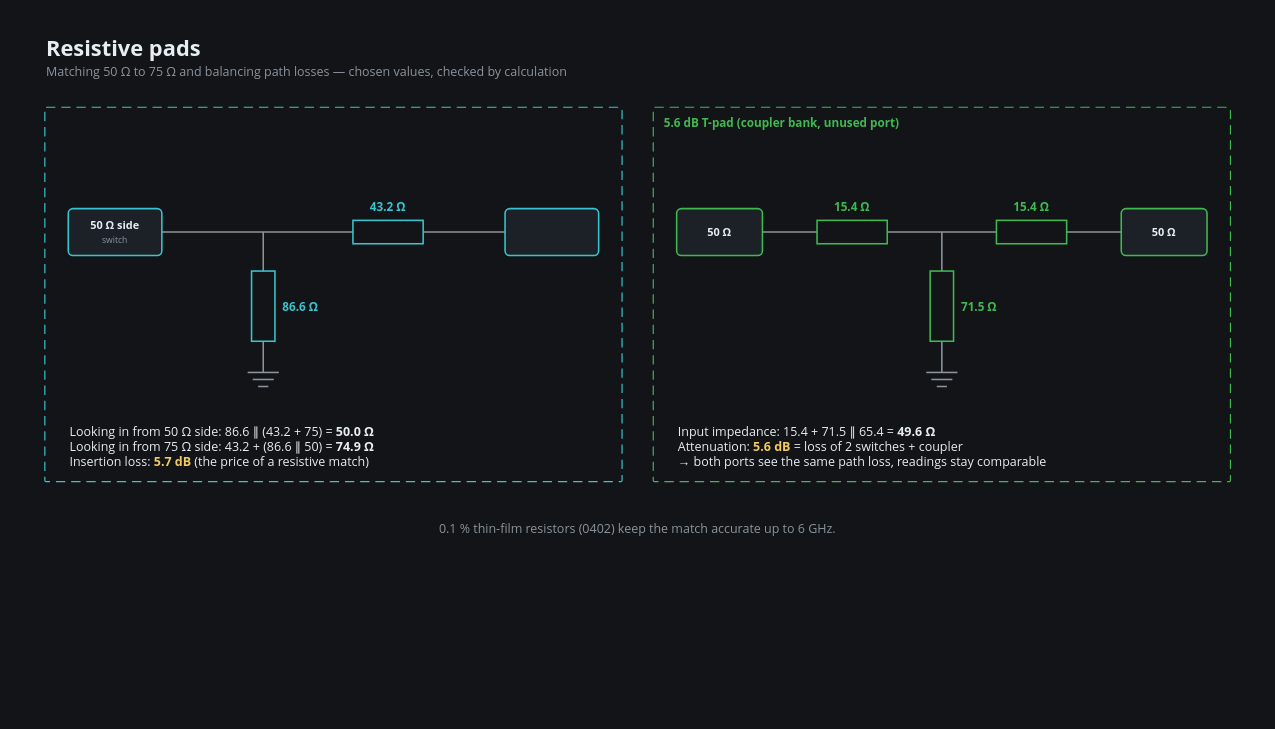
Some shapes in this 1275 by 729 pixel diagram are drawn without their labels. The box of each missing label's shape, as (x1, y1, x2, y2) in pixels:
50 Ω → 75 Ω minimum-loss pad (each port): (44, 106, 622, 482)
75 Ω side BNC: (504, 207, 599, 256)
